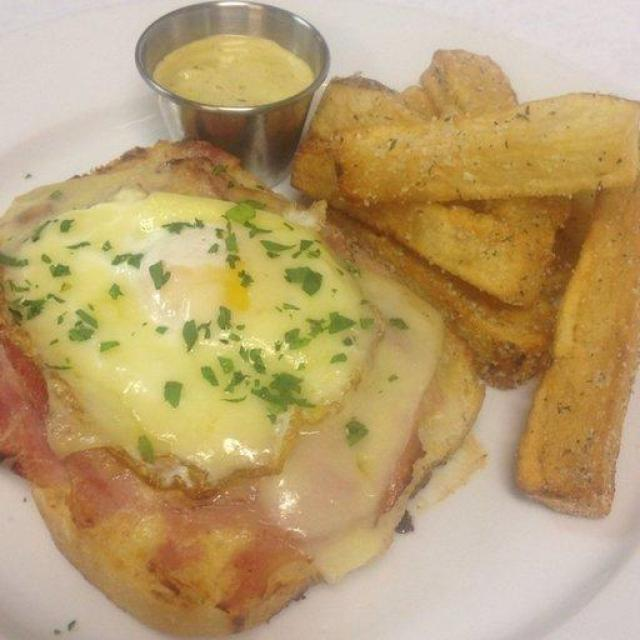food_waste: (1, 125, 502, 616), (303, 26, 640, 600), (108, 5, 364, 178)
